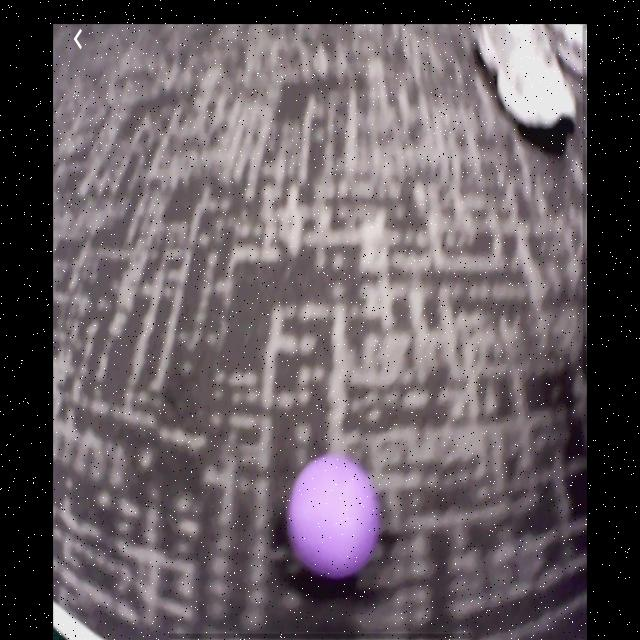ball: (286, 452, 382, 582)
